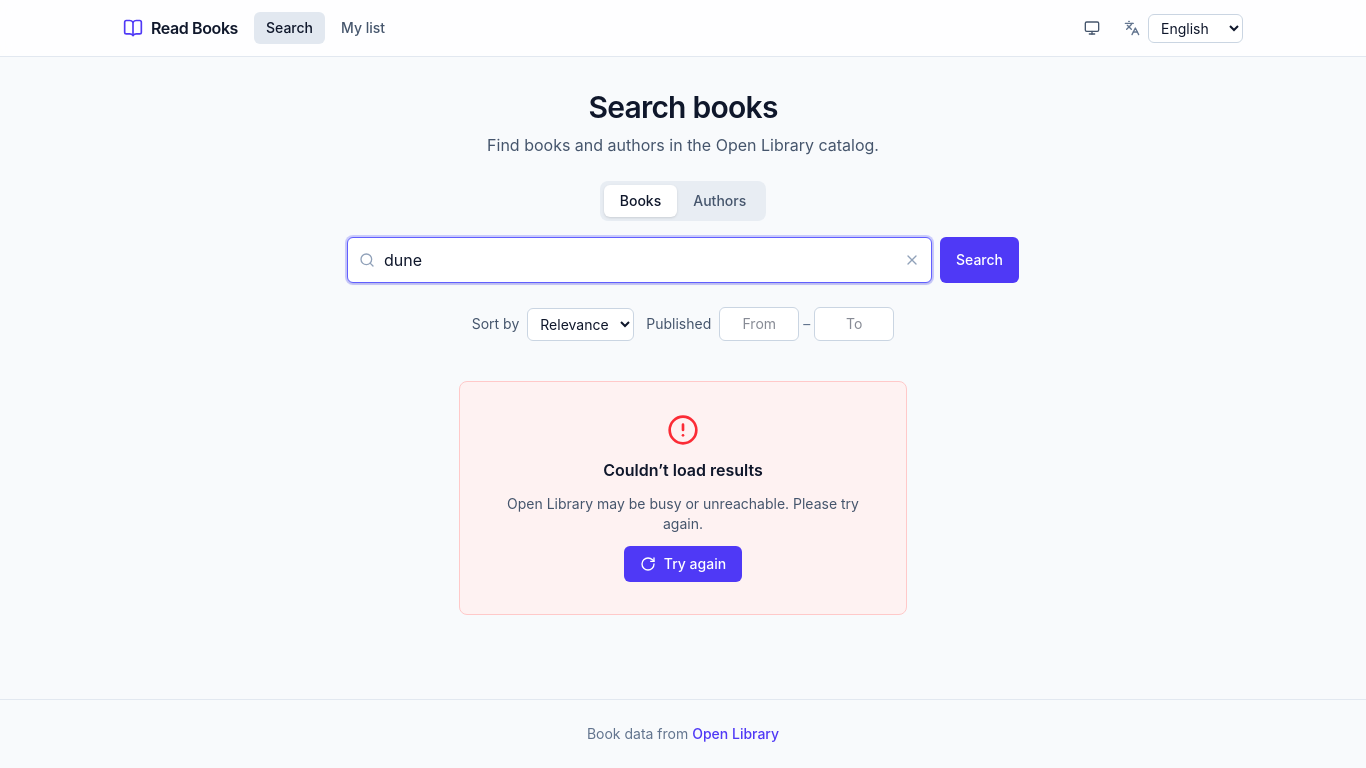
it: SearchPage › shows an error with a working retry
This screenshot has width=1366, height=768.
Expected: the message shows "Couldn’t load results", [603,460,763,480]
Click the button "Try again".
click(683, 564)  # box [624,546,742,582]
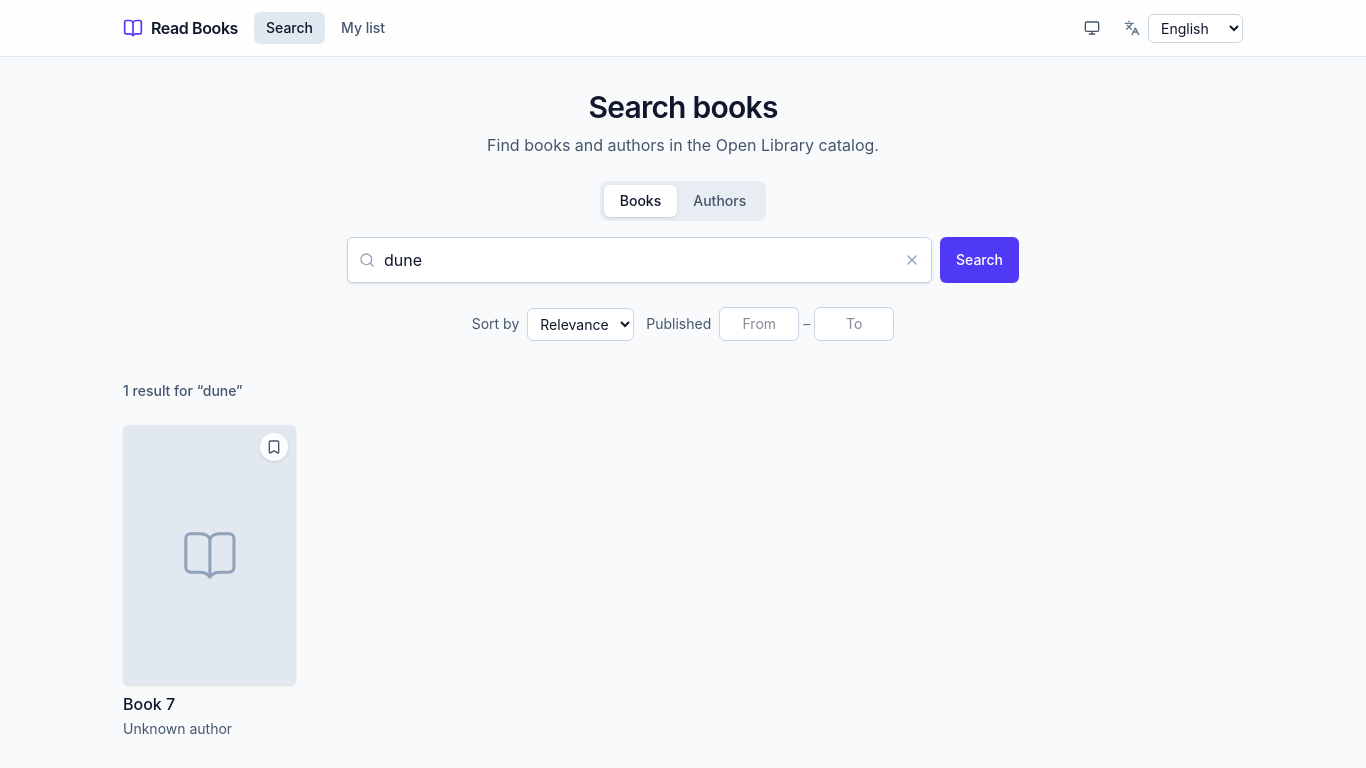
Expected: the link "Book 7" is shown, [123,694,175,714]
